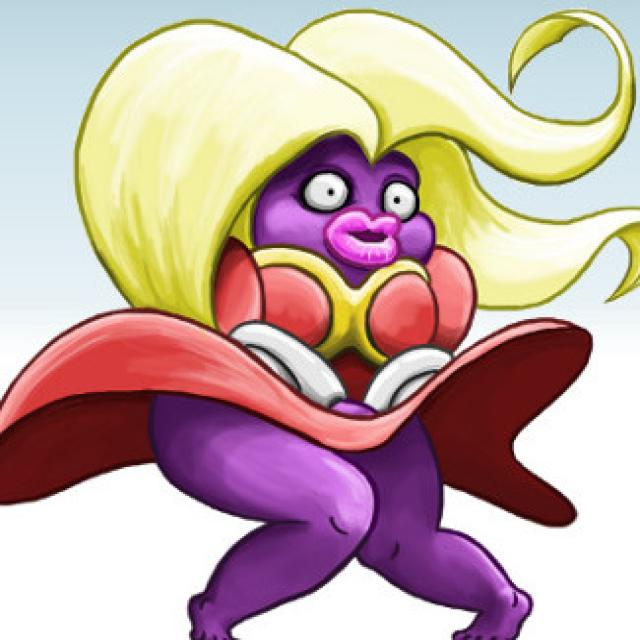Jynx: (154, 18, 479, 499)
